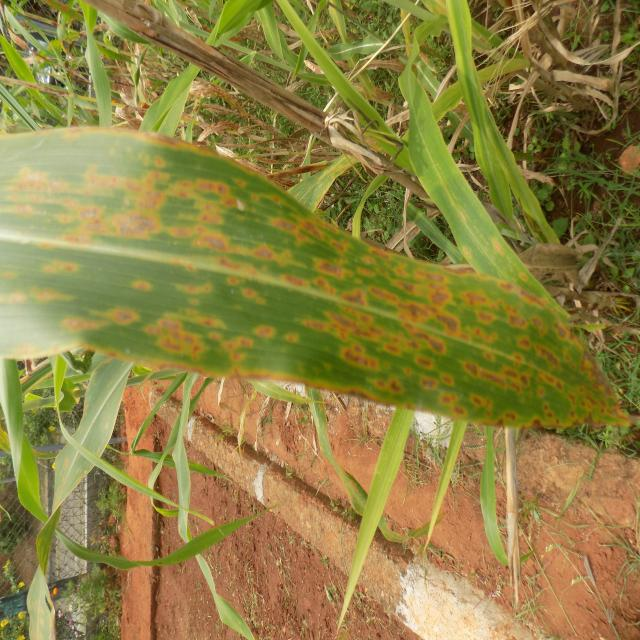millet_healthy: (24, 0, 296, 581), (0, 345, 261, 574), (396, 60, 554, 331), (442, 0, 576, 246), (332, 401, 418, 633), (278, 0, 414, 124), (475, 408, 514, 580)
millet_rust: (0, 128, 631, 438)
